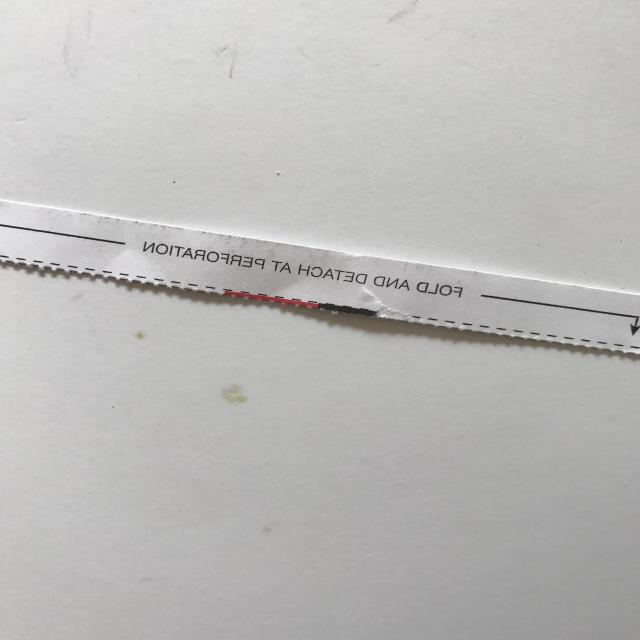paper: (0, 185, 640, 372)
